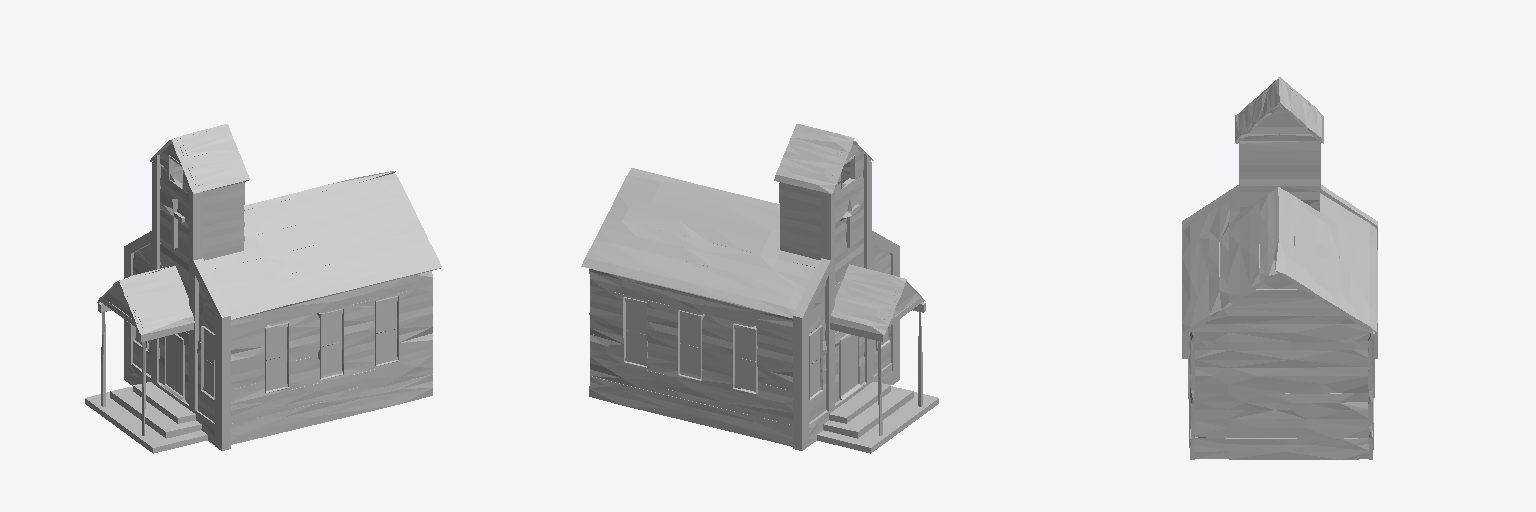
File: Church_LOD2.obj
3 views of the same model, side by side, from view 1: azimuth 30°, elevation 25°; view 2: azimuth 150°, elevation 25°; view 3: azimuth 270°, elevation 25° (orthographic).
Visible parts, largest first — view 1: WildWest_Church_Roofs, WildWest_Church_Walls, WildWest_Church_Front, WildWest_Church_Steps, WildWest_Church_Window, WildWest_Church_Door; view 2: WildWest_Church_Roofs, WildWest_Church_Walls, WildWest_Church_Front, WildWest_Church_Steps, WildWest_Church_Window, WildWest_Church_Door; view 3: WildWest_Church_Walls, WildWest_Church_Roofs, WildWest_Church_Front, WildWest_Church_Steps.
Part boxes in pixels (x1,y1,x2,y2): WildWest_Church_Roofs: (97, 124, 441, 334); WildWest_Church_Walls: (231, 271, 432, 423); WildWest_Church_Front: (124, 138, 244, 450); WildWest_Church_Steps: (85, 282, 432, 453); WildWest_Church_Window: (136, 301, 396, 394); WildWest_Church_Door: (166, 335, 182, 395); WildWest_Church_Roofs: (581, 124, 925, 334); WildWest_Church_Walls: (589, 269, 792, 424); WildWest_Church_Front: (779, 144, 899, 450); WildWest_Church_Steps: (589, 283, 938, 453); WildWest_Church_Window: (626, 302, 887, 394); WildWest_Church_Door: (841, 335, 857, 395); WildWest_Church_Walls: (1188, 274, 1374, 438); WildWest_Church_Roofs: (1182, 77, 1377, 334); WildWest_Church_Front: (1182, 81, 1377, 358); WildWest_Church_Steps: (1189, 399, 1373, 459).
Size of the model in its own units: 11.99 by 11.5 by 7.32.